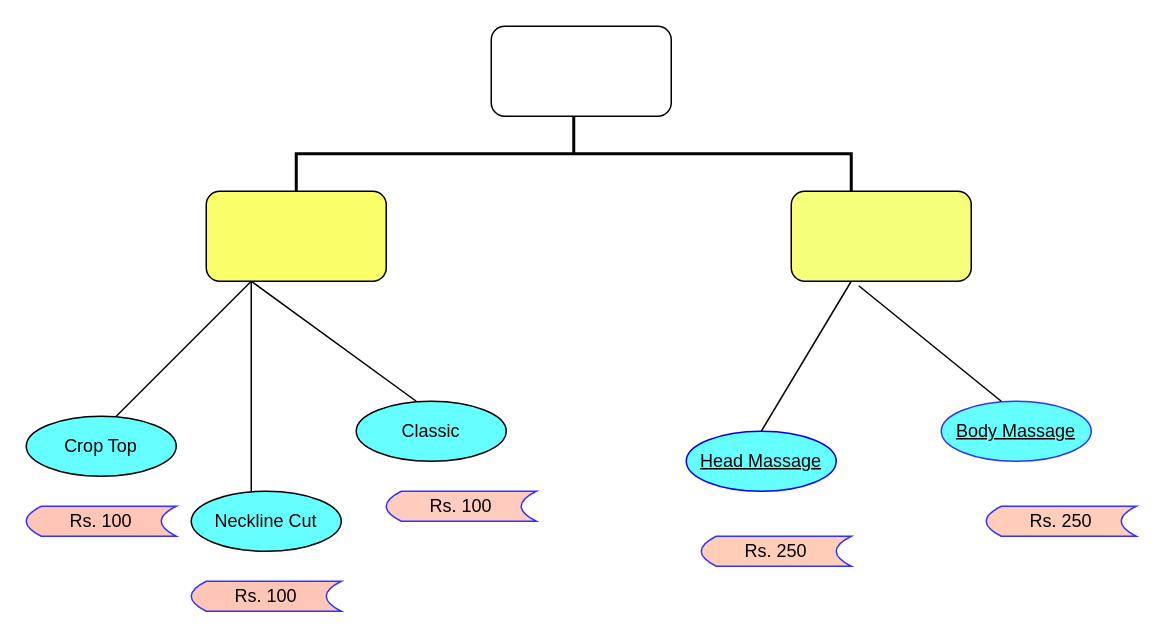
Image size: 1163x638. Some labels were removed from this diagram. Each missing label, with the centre of its shape:
Hair Cut: the point at 295,235
Premium Saloon: the point at 580,70
Spa/ Massage: the point at 880,235
